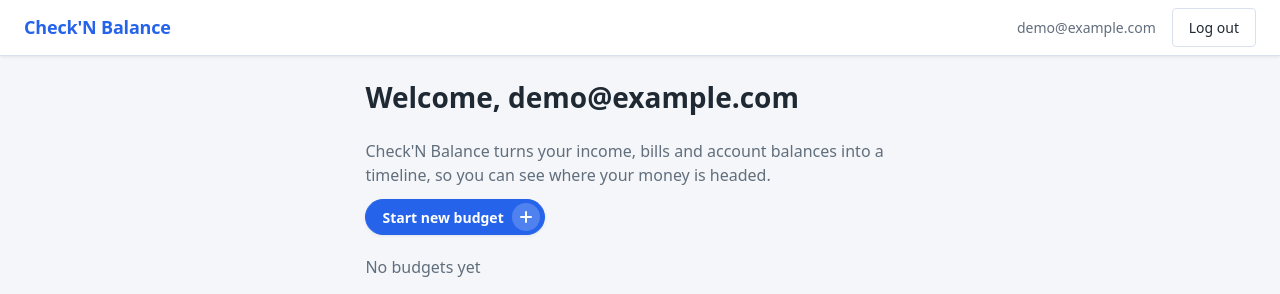
Test: the "+" button › is disabled while the request is in flight
The width and height of the screenshot is (1280, 294).
Click the button "Start new budget". click: click(455, 217)
box: [365, 199, 545, 235]
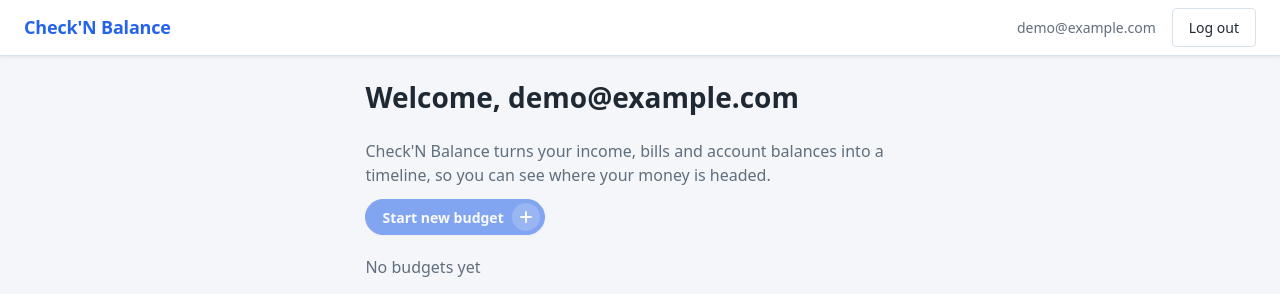
Check: the button "Start new budget" is disabled, box [365, 199, 545, 235]
